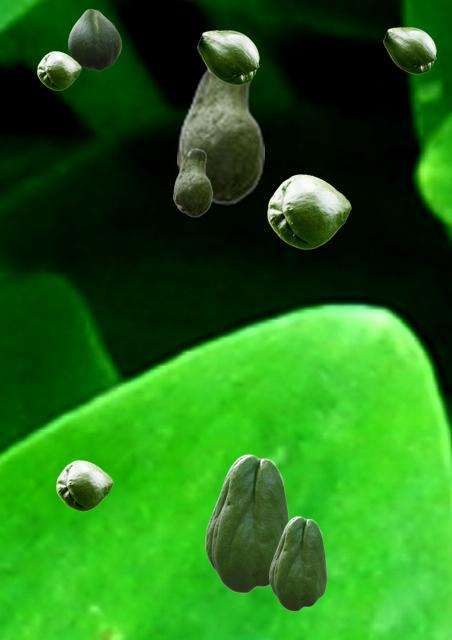sayote: (177, 64, 263, 204), (205, 454, 289, 592), (267, 174, 350, 248), (269, 516, 326, 610), (197, 30, 258, 84), (68, 9, 120, 70), (56, 460, 112, 510), (173, 148, 211, 216), (383, 27, 435, 73), (37, 51, 80, 89)
